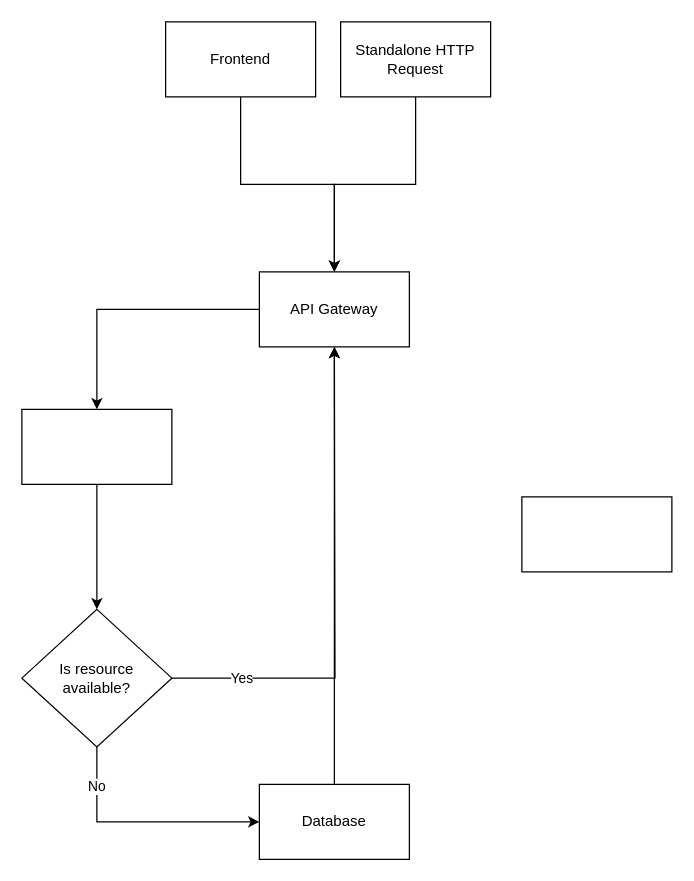
Image size: 694x881. Some labels were removed from this diagram. Each missing label, with the box of its shape:
Caching DB: (21, 408, 172, 484)
Data Bucket ?: (521, 496, 672, 572)
